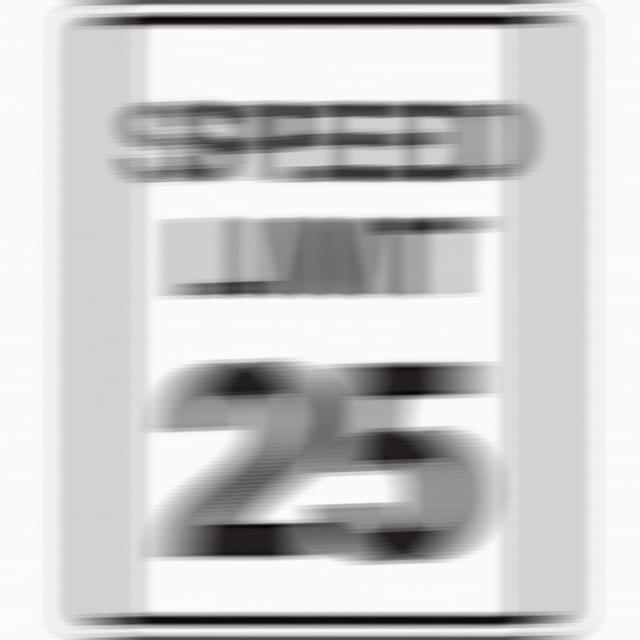speedLimit25: (75, 12, 572, 632)
